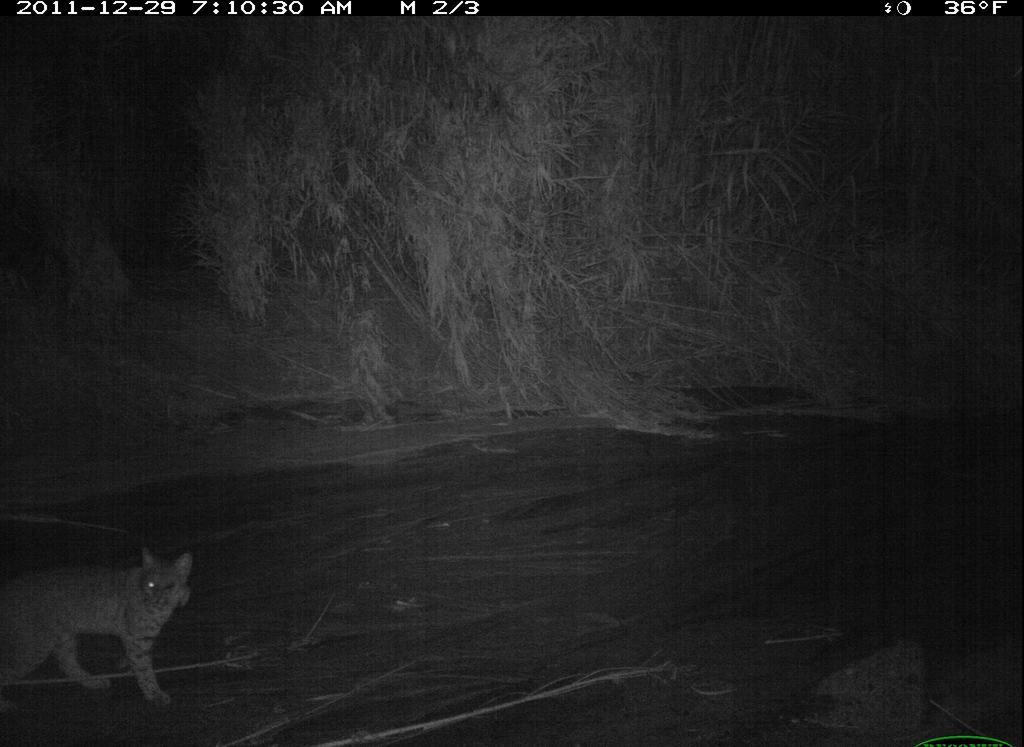bobcat: (15, 538, 214, 715)
